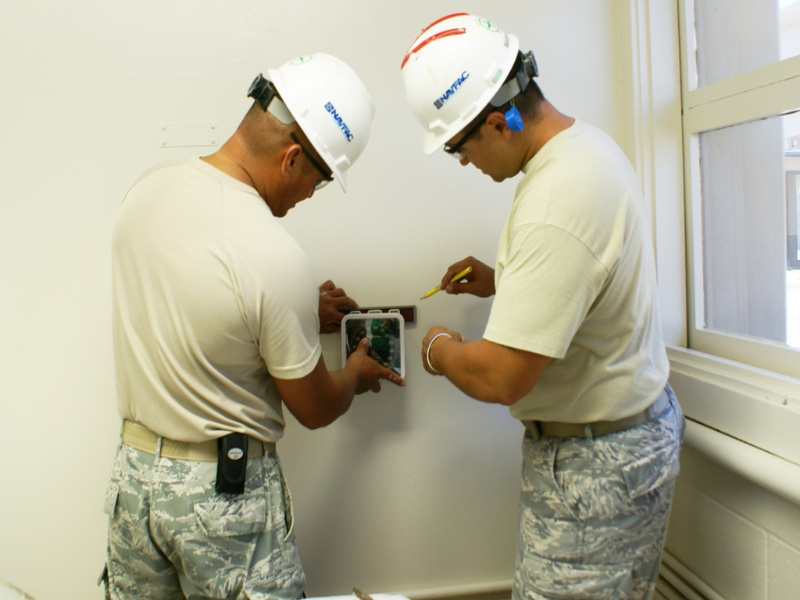baret: (257, 49, 378, 199), (401, 13, 526, 157)
